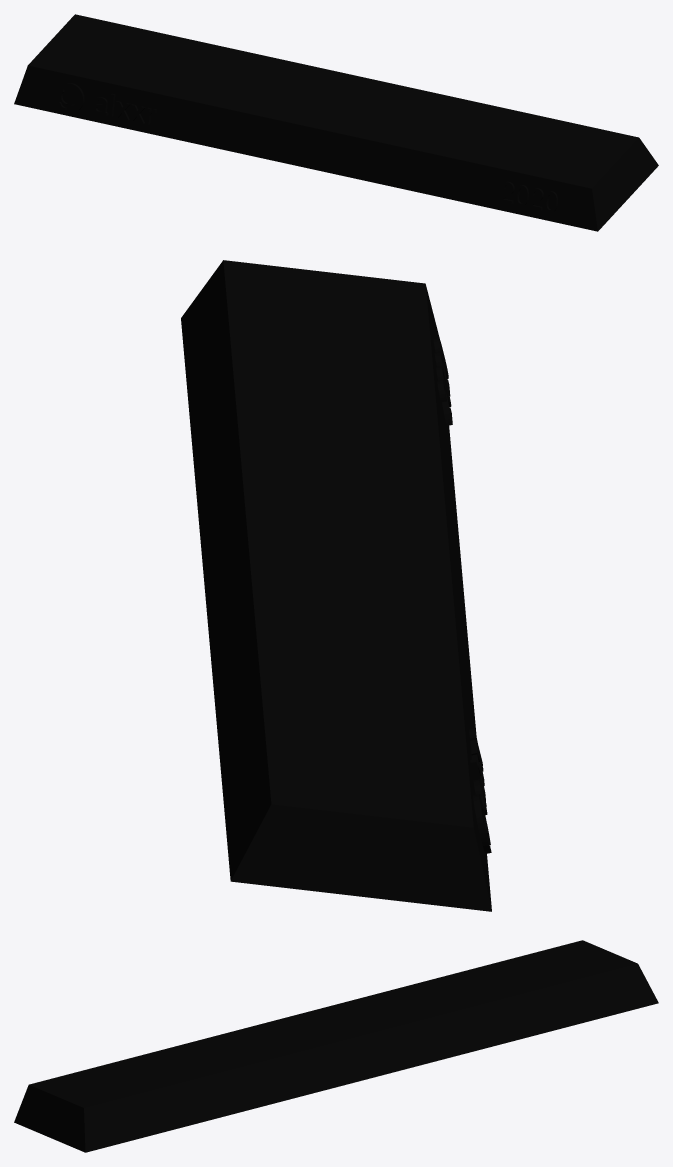
The model's file is alxxr-2020.glb.
3 renders of one model, top to bottom at view 1: azimuth 30°, elevation 25°; view 2: azimuth 150°, elevation 25°; view 3: azimuth 270°, elevation 25°, orthographic. The views are drawn at different scales.
Parts seen in each view (by area): view 1: node_id3; view 2: node_id3; view 3: node_id3.
Part boxes in pixels (x1=…): node_id3: x1=14, y1=14, x2=658, y2=231; node_id3: x1=181, y1=260, x2=491, y2=911; node_id3: x1=14, y1=940, x2=658, y2=1152.
Bounding box in the file's own units: 0.3583 × 0.0458 × 0.4875.
Materials: 1 (1 with a texture image).
